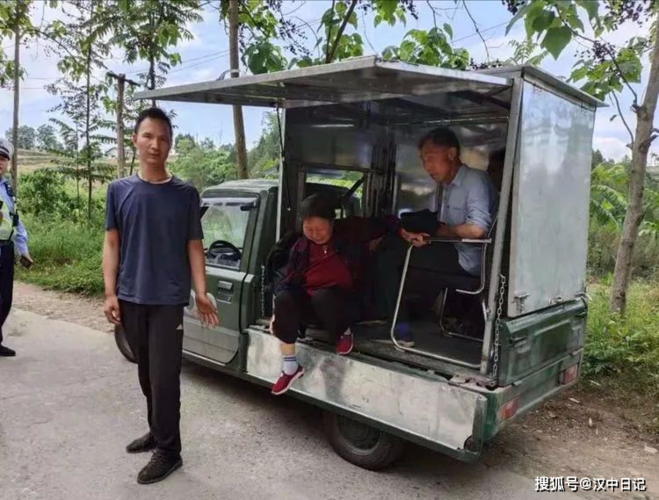overloading: (126, 76, 577, 425)
passenger: (393, 120, 508, 381), (261, 180, 393, 402)
